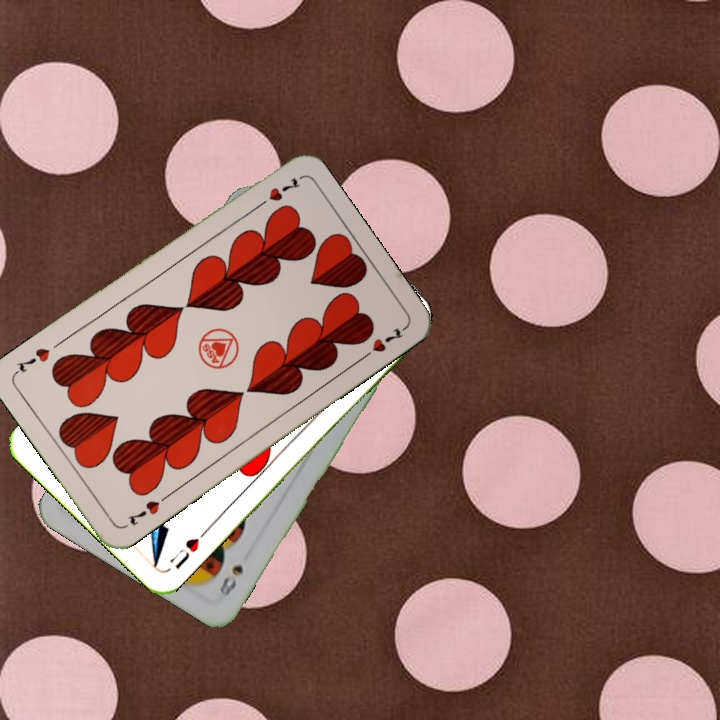H7: (251, 173, 303, 212), (125, 490, 172, 528)
HU: (165, 526, 210, 572)
S8: (215, 560, 246, 602)
